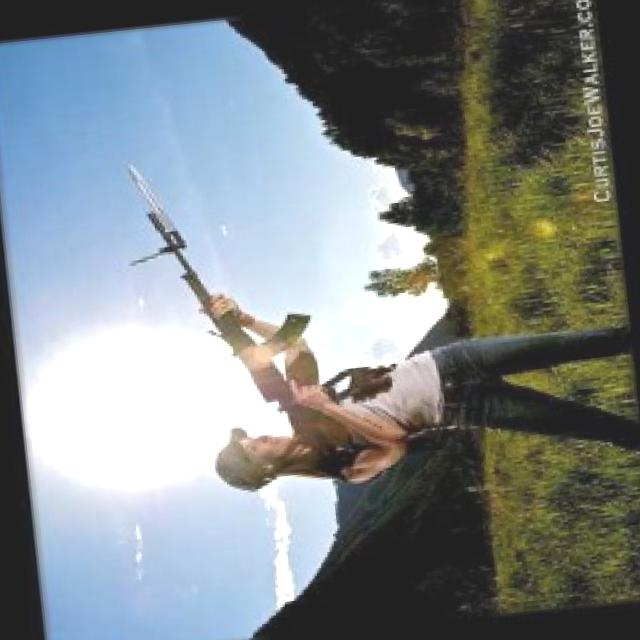long weapon: (109, 134, 408, 489)
